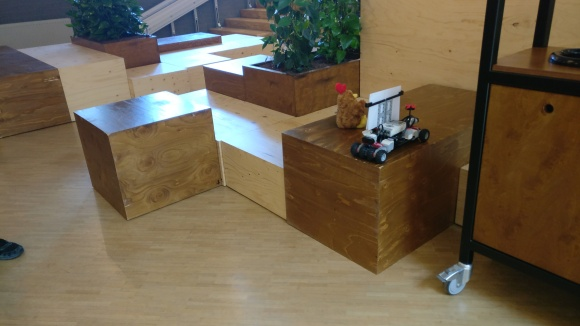chicken: (333, 81, 369, 129)
